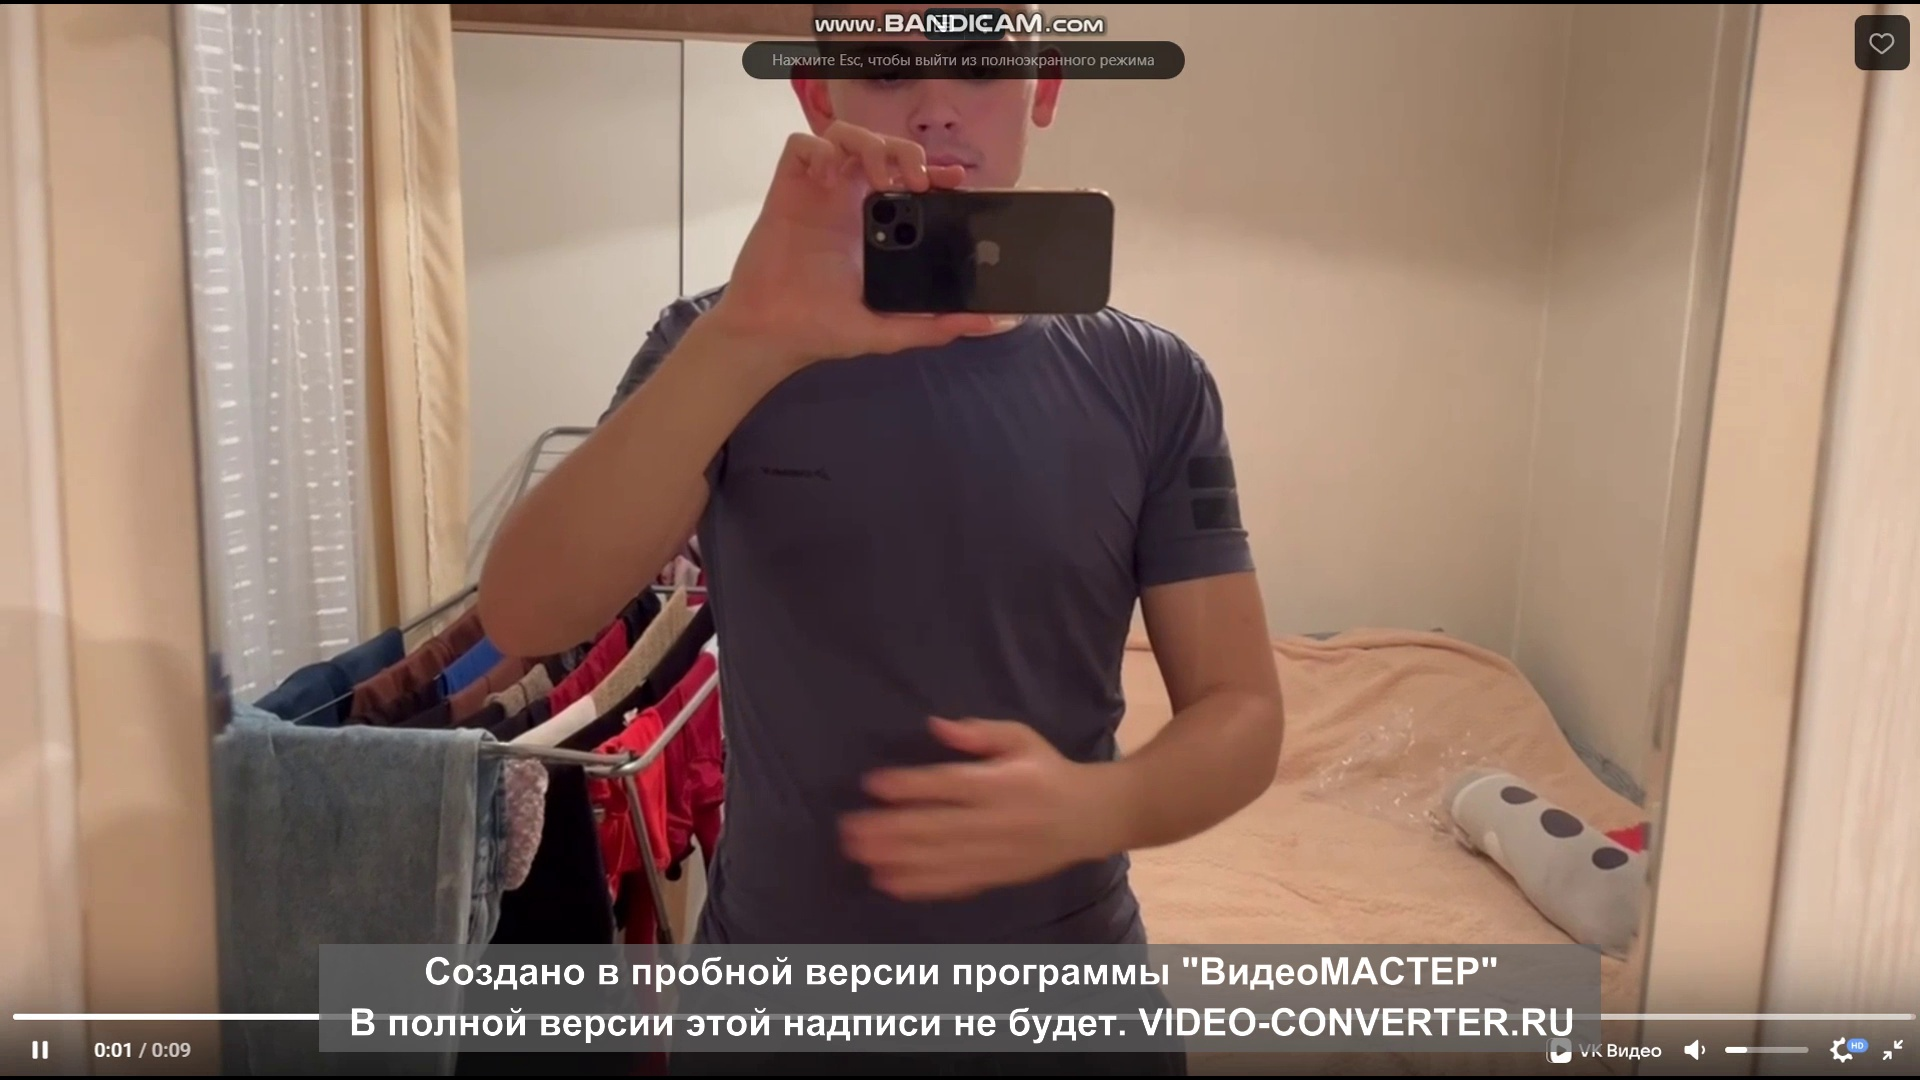Кисть: (839, 715, 1109, 901)
